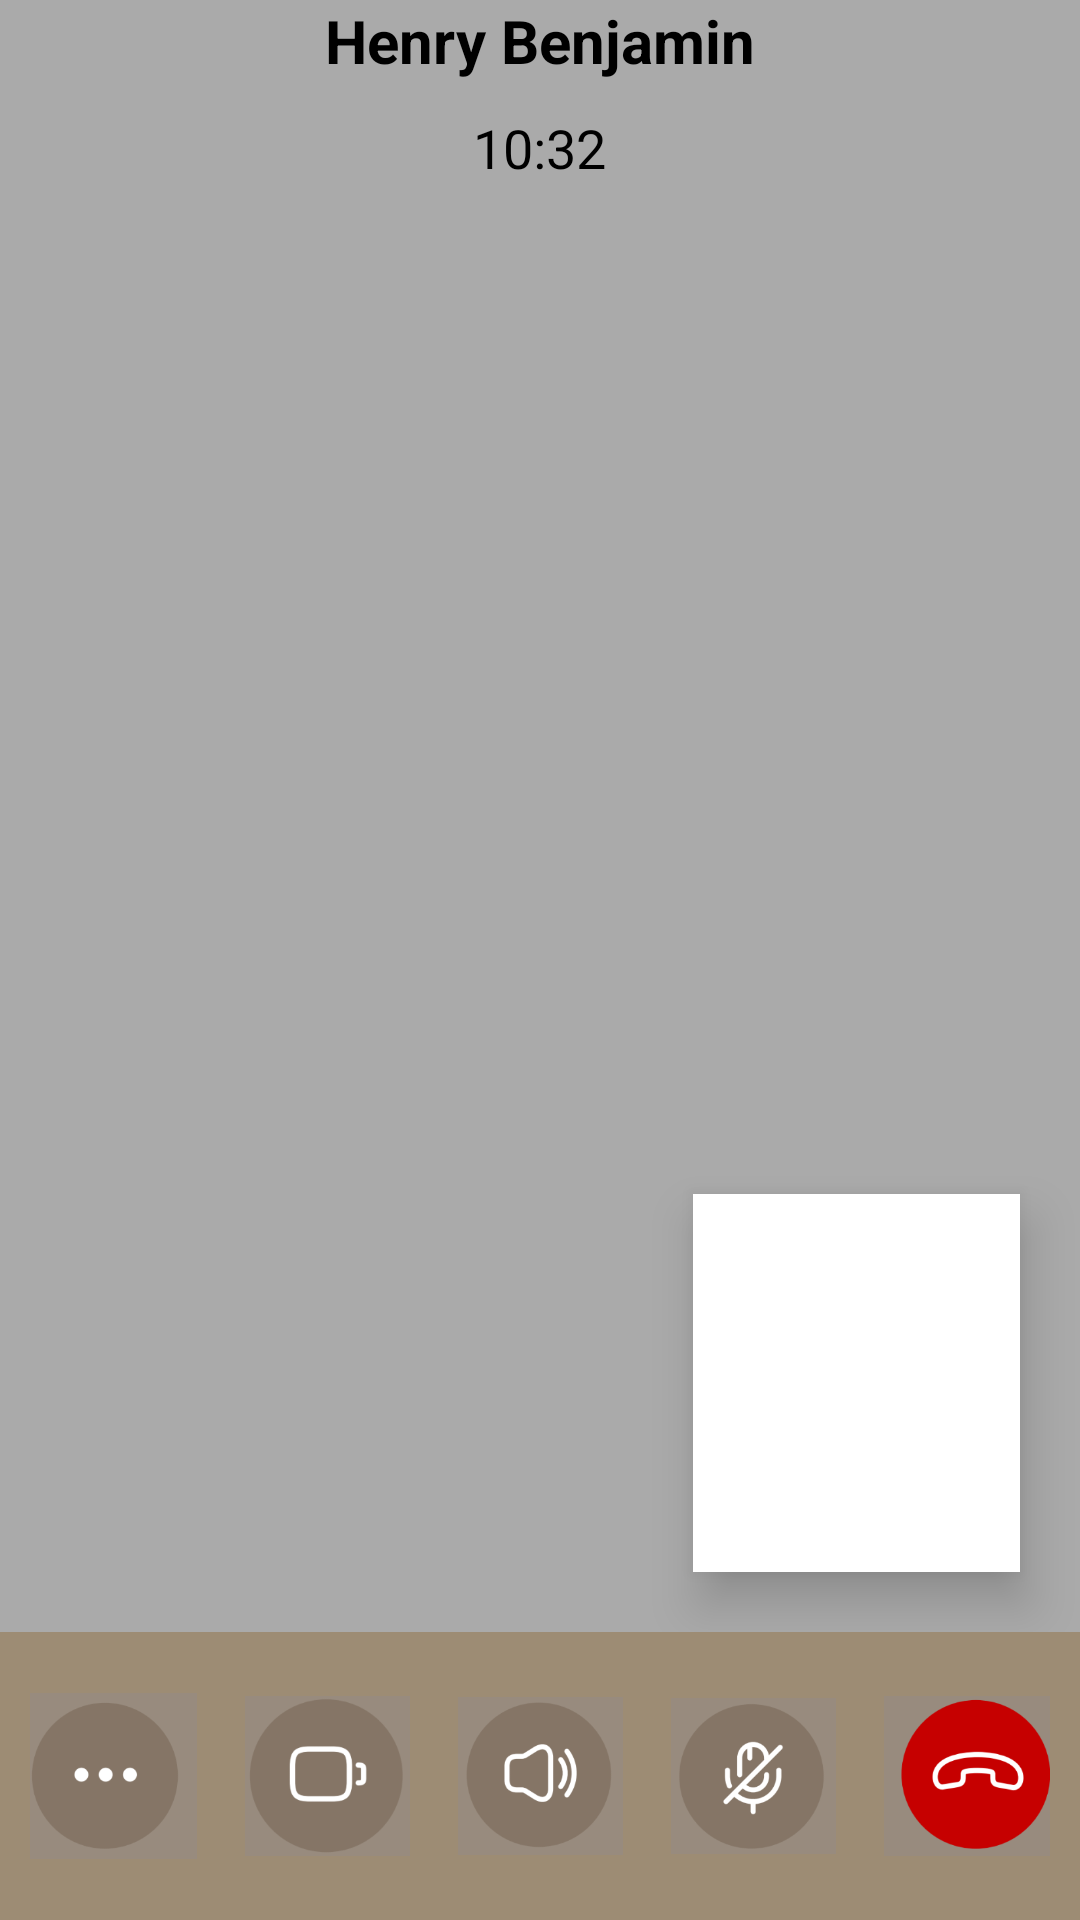

Where icons sit on this 1080*1920 app screen, as BBox(x1, y1, x2, y2):
end call: BBox(901, 1700, 1050, 1849)
mic off: BBox(671, 1698, 836, 1854)
more options: BBox(74, 1767, 137, 1782)
speaker: BBox(458, 1697, 623, 1855)
video call: BBox(245, 1696, 410, 1856)
